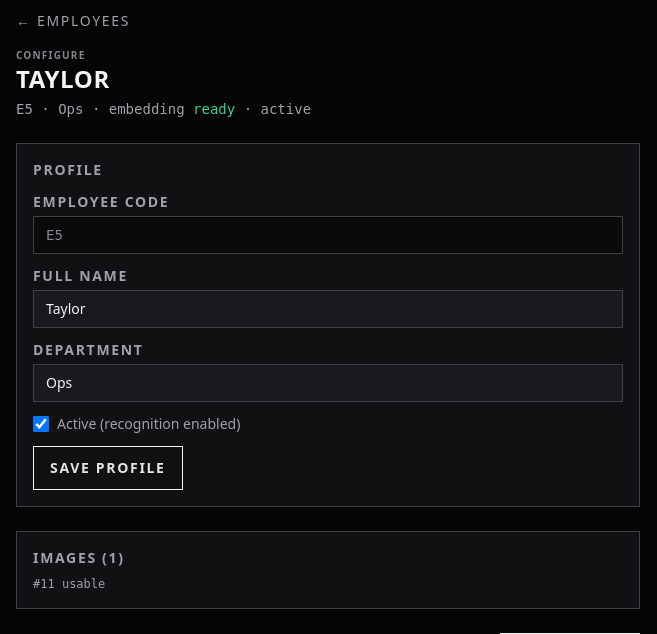
Test case: EmployeeDetailPage edit and deactivate › API error preserves server metadata, form values, and alert
Replace the text in the field with test id "edit-full-name" with "Draft Name" at point(328, 309), box [33,290,623,328]
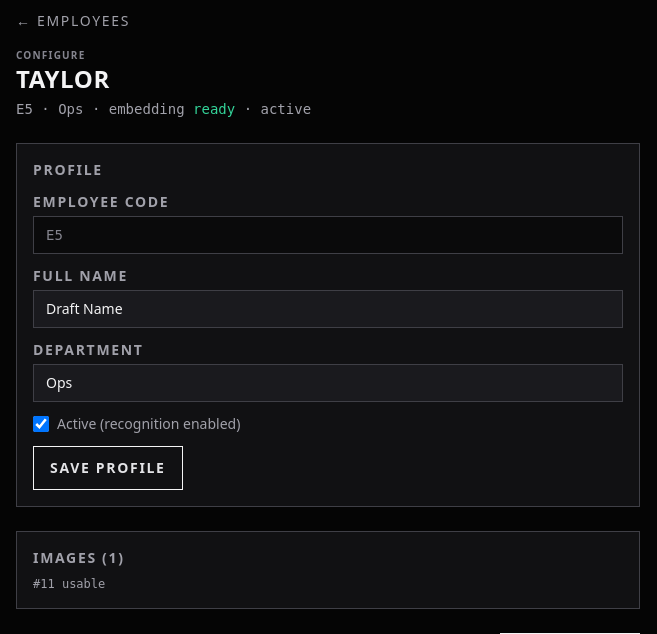
Replace the text in the field with test id "edit-department" with "Draft Dept" at point(328, 383), box [33,364,623,402]
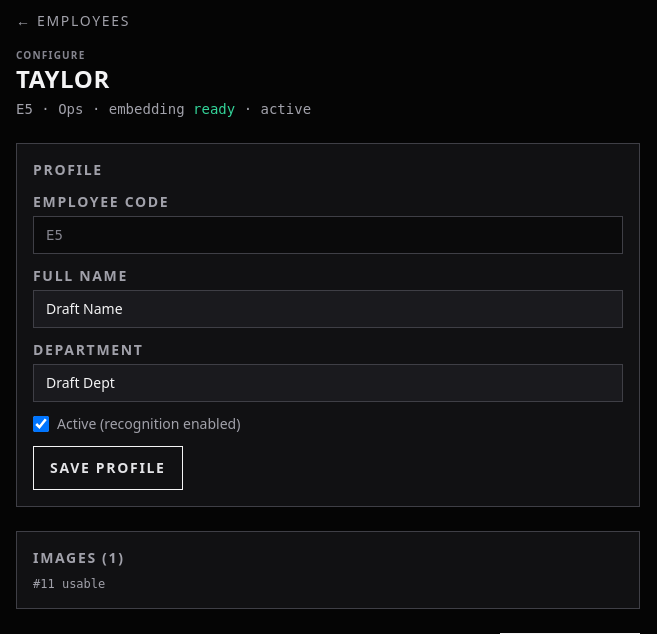
Click the button with test id "save-profile" at point(108, 468), box [33,446,183,490]
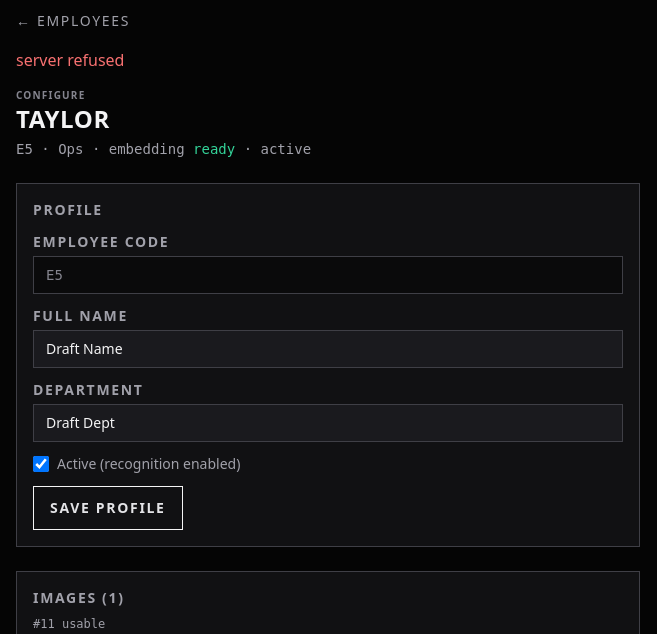
Expected: the heading "Taylor" is shown, [16,102,110,135]
Now the message with test id "detail-error" reads "server refused", box [16,49,124,71]
